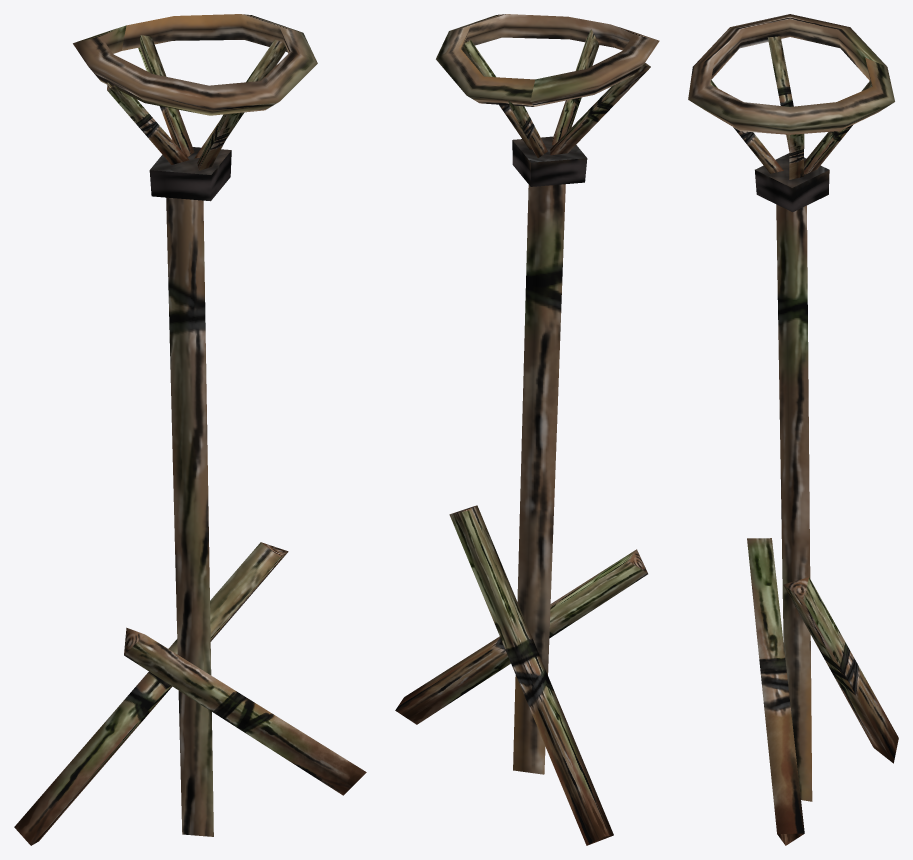
Rendered from PRP_TorchStandA.FBX.
3 renders of one model, left to right at view 1: azimuth 30°, elevation 25°; view 2: azimuth 150°, elevation 25°; view 3: azimuth 270°, elevation 25°, orthographic. The views are drawn at different scales.
Visible parts, largest first — view 1: PRP_Torches; view 2: PRP_Torches; view 3: PRP_Torches.
Boxes of the visible parts, left/top/right/bottom form: PRP_Torches: left=14, top=14, right=366, bottom=845; PRP_Torches: left=395, top=14, right=659, bottom=845; PRP_Torches: left=688, top=14, right=898, bottom=845.
Size of the model in its own units: 78.51 by 216 by 55.03.
